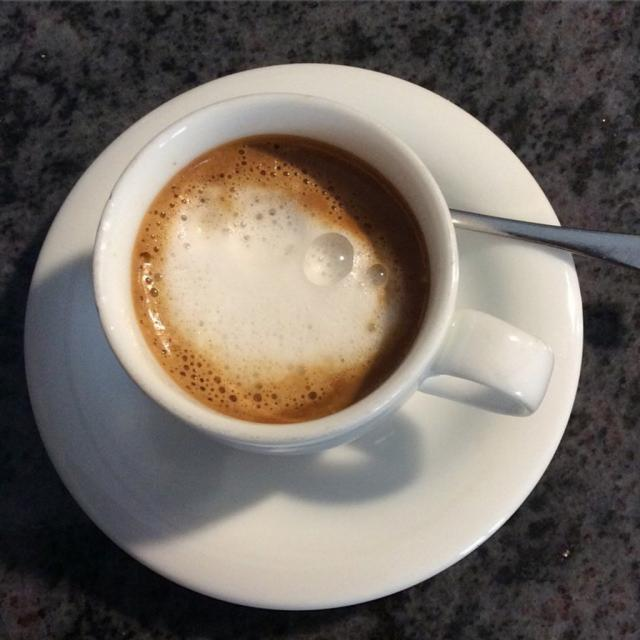Coffee: (106, 105, 483, 448)
